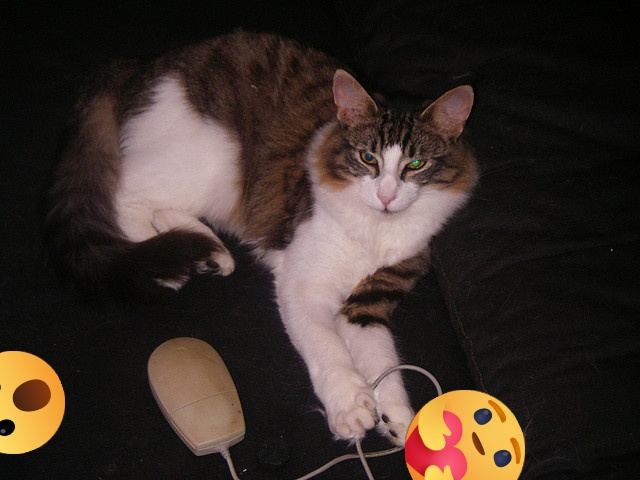care: (405, 390, 525, 480)
wow: (0, 351, 65, 454)
